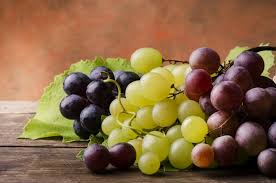Green grapes: (119, 74, 202, 171)
Red Grapes: (200, 56, 276, 169)
